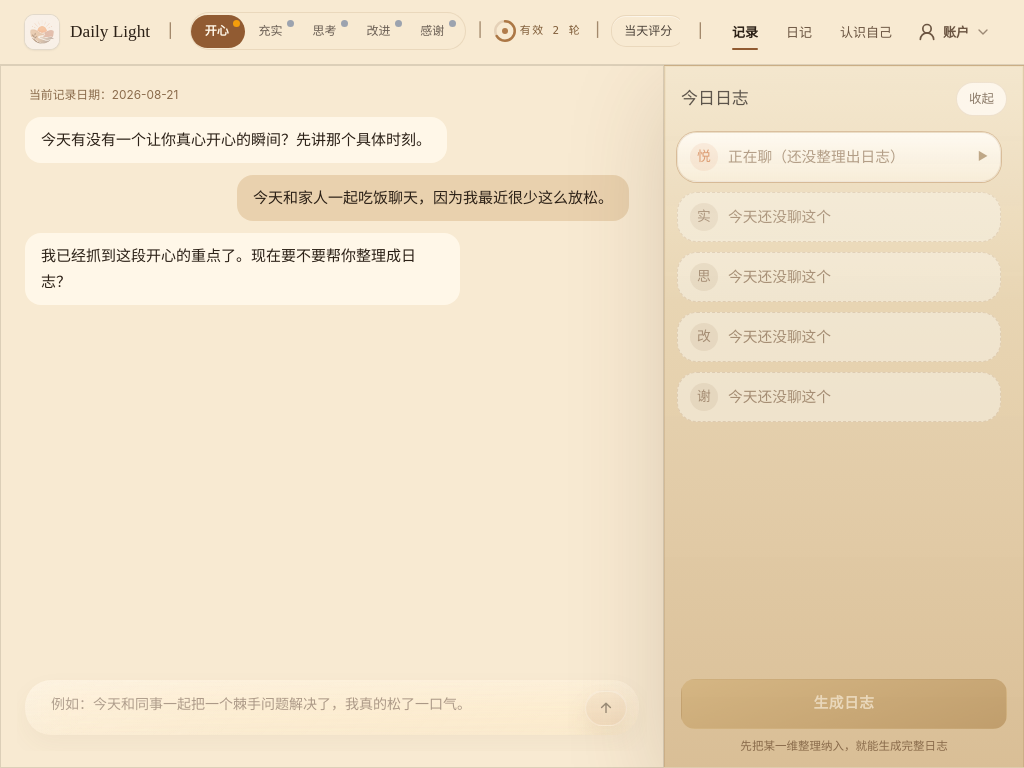
Test: InterviewShell › renders the streamed choice card after a stop phrase instead of continuing with another question
The width and height of the screenshot is (1024, 768).
Expected: the text "有效 2 轮" is shown, [520,22,581,40]
Type "结束这轮访谈" into the text box. click: x=332, y=704
box: [35,686,629,722]
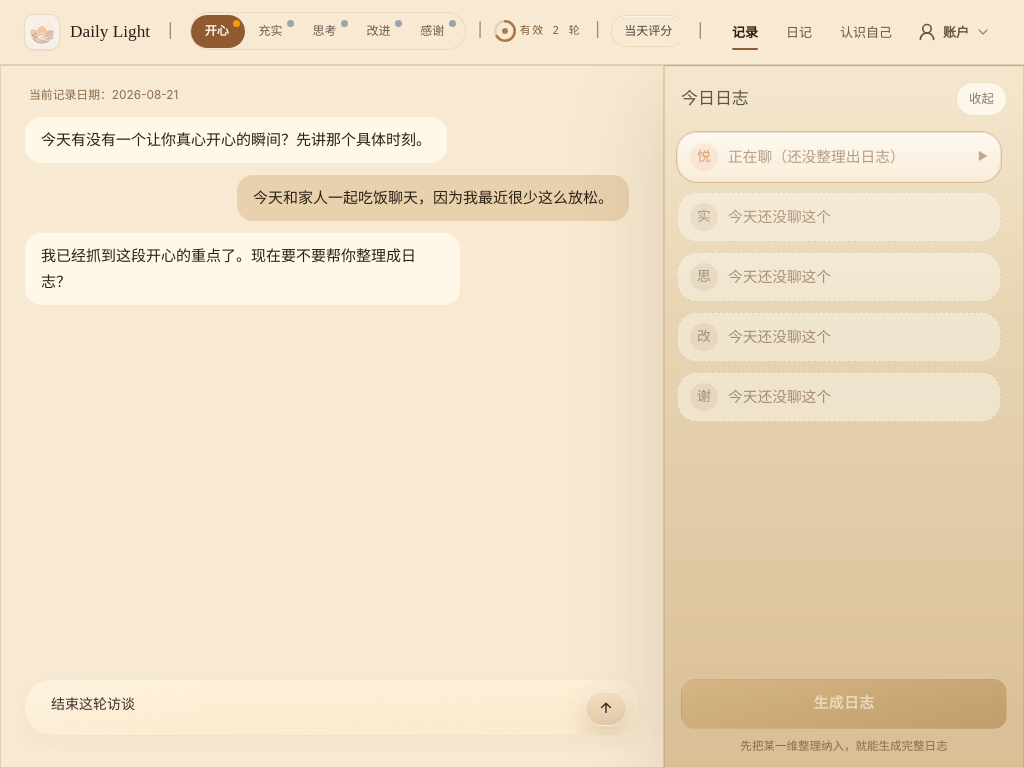
Click the button named "发送回答". click: x=606, y=708
box: [585,690,627,726]
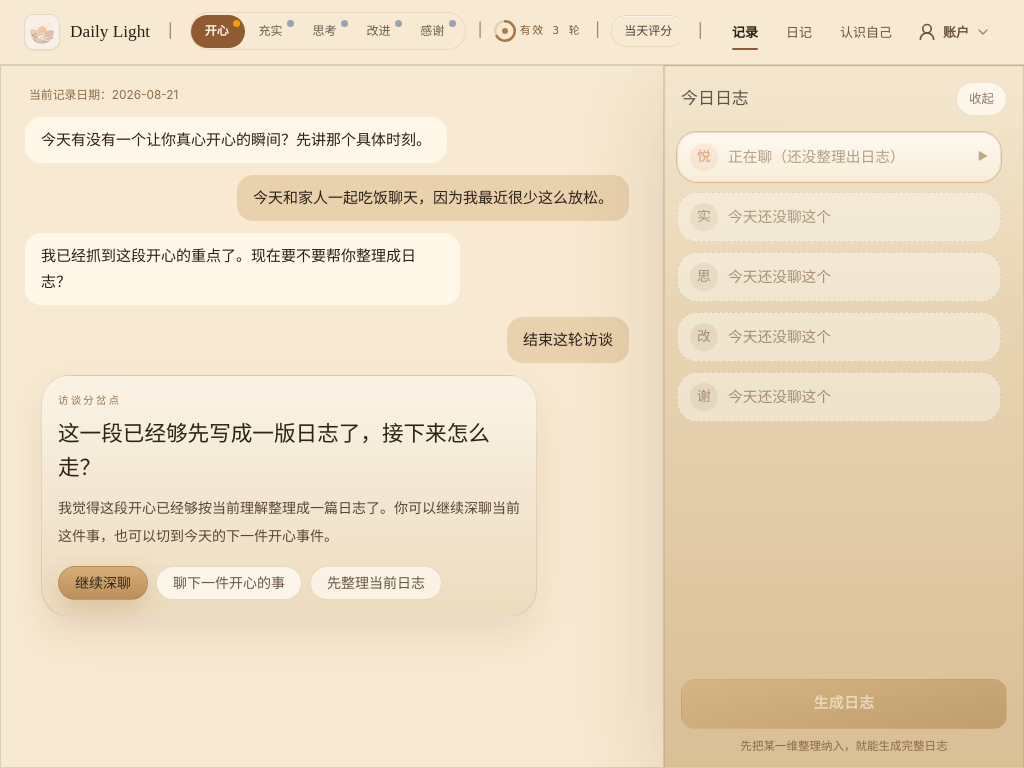
Expected: the heading "这一段已经够先写成一版日志了，接下来怎么走？" is shown, [58,417,520,486]
Expected: the button "先整理当前日志" is shown, [310,566,442,600]
Expected: the element with test id "interview-floating-composer" is gone
